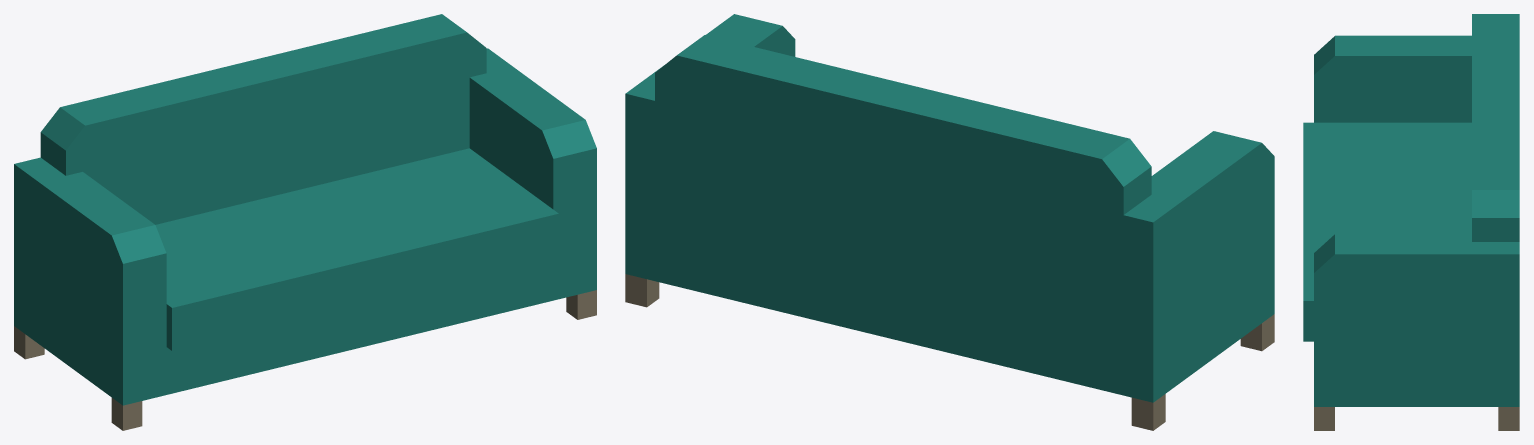
File: settee.glb
3 renders of one model, left to right at view 1: azimuth 30°, elevation 25°; view 2: azimuth 150°, elevation 25°; view 3: azimuth 270°, elevation 25°, orthographic. The views are drawn at different scales.
Visible parts, largest first — view 1: settee; view 2: settee; view 3: settee.
Boxes of the visible parts, <box> form: settee: <box>14,14,596,430</box>; settee: <box>625,14,1274,430</box>; settee: <box>1303,14,1519,430</box>.
Bounding box in the file's own units: 0.98 × 0.46 × 0.41.
